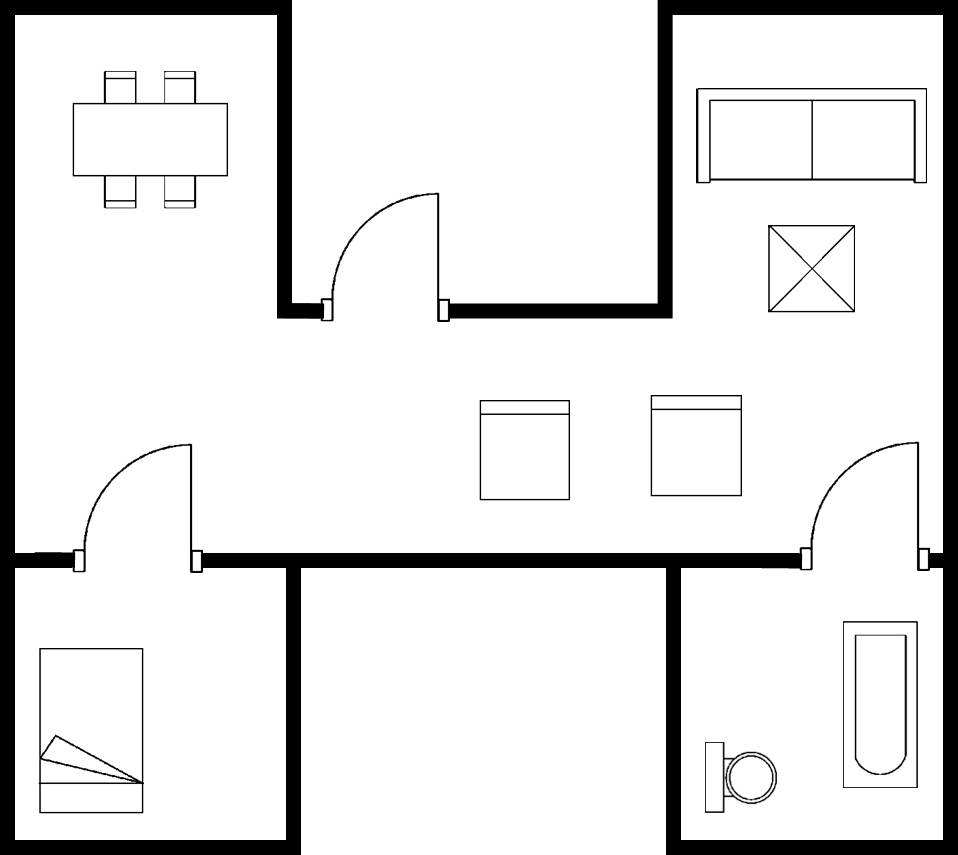bed: (32, 643, 150, 820)
coffee_table: (760, 218, 862, 320)
dining_table: (63, 63, 238, 216)
large_sink: (700, 735, 783, 821)
large_sofa: (691, 83, 932, 189)
small_sofa: (643, 390, 751, 503), (472, 395, 577, 508)
tub: (837, 615, 927, 794)
